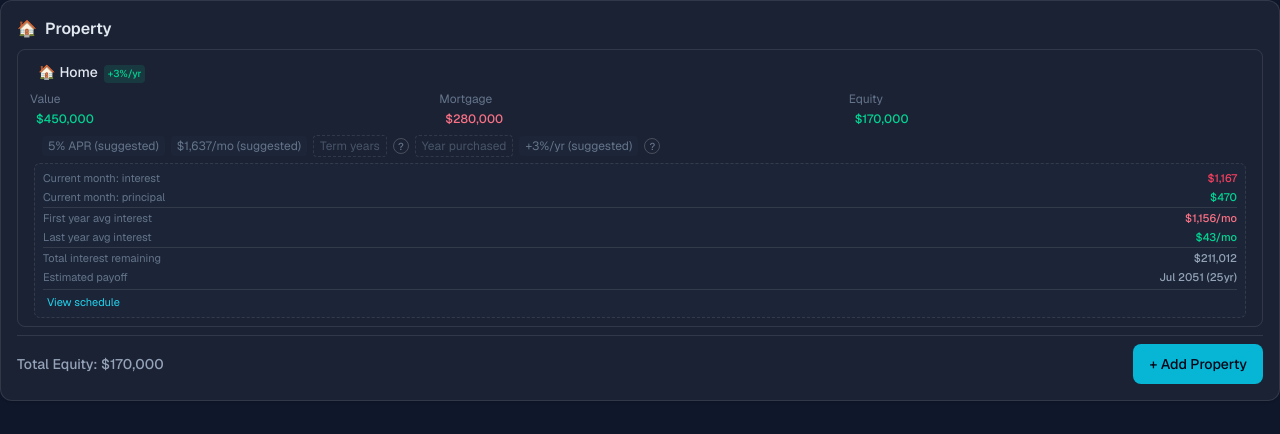
Test: PropertyEntry component › shows click-to-edit input when mortgage is clicked
The width and height of the screenshot is (1280, 434).
Click the button named "Edit mortgage for Home" at {"x": 474, "y": 119}, box top-left (439, 109), bottom-right (841, 129)
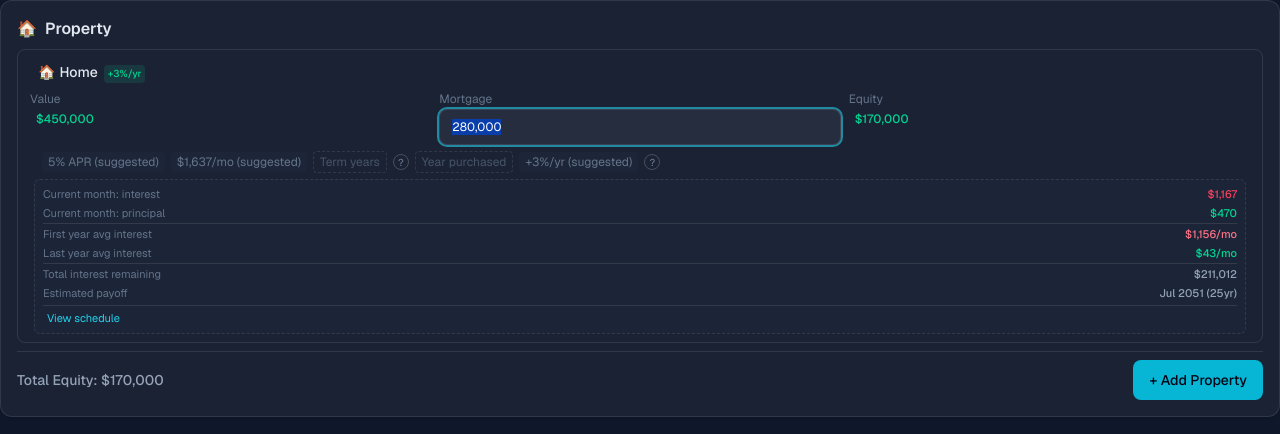
Now the field named "Edit mortgage for Home" is shown, box top-left (439, 109), bottom-right (841, 145)
